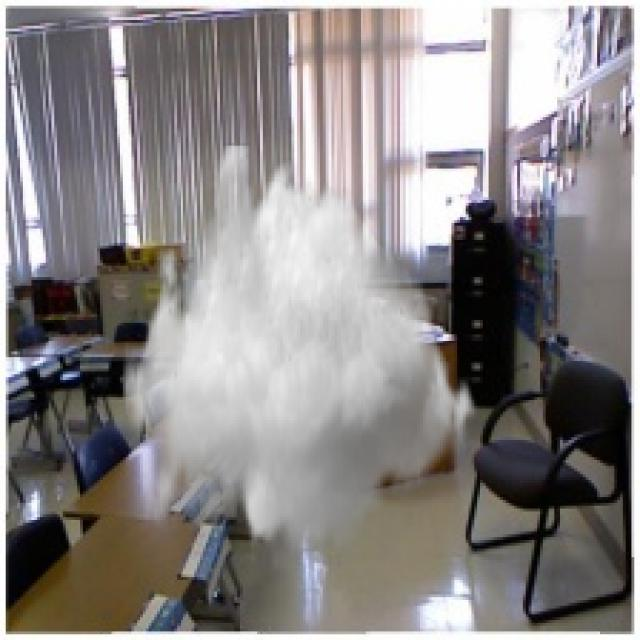smoke: (123, 143, 483, 563)
